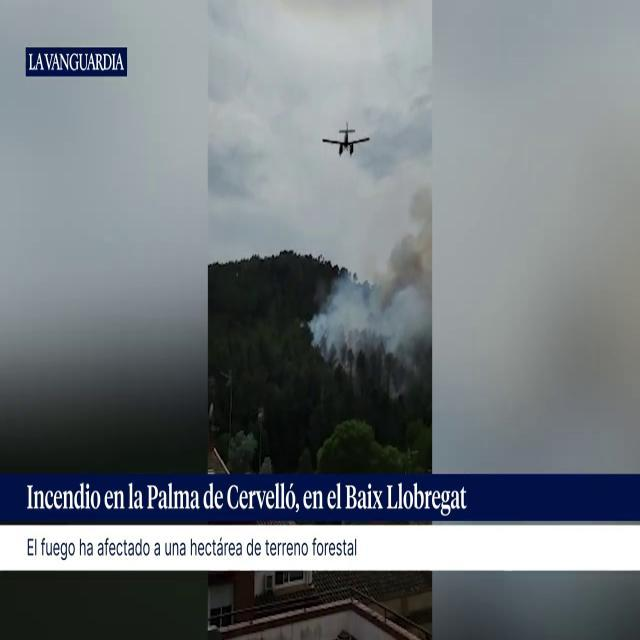Smoke: (312, 172, 432, 384)
